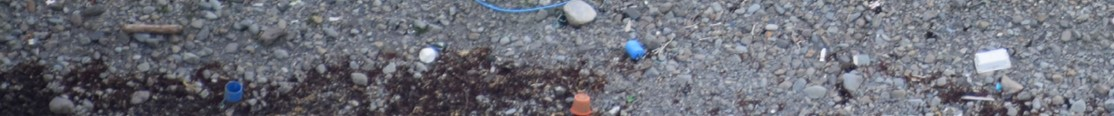straight_bar: (120, 17, 188, 43)
tube: (469, 1, 561, 18)
white_in_green: (939, 19, 1042, 106), (191, 49, 275, 116), (597, 20, 677, 89), (392, 22, 469, 89), (534, 77, 631, 116)
